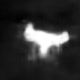plane: (20, 20, 70, 61)
